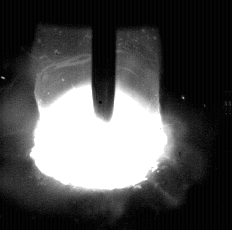arame: (93, 0, 116, 122)
poca: (31, 0, 166, 230)
